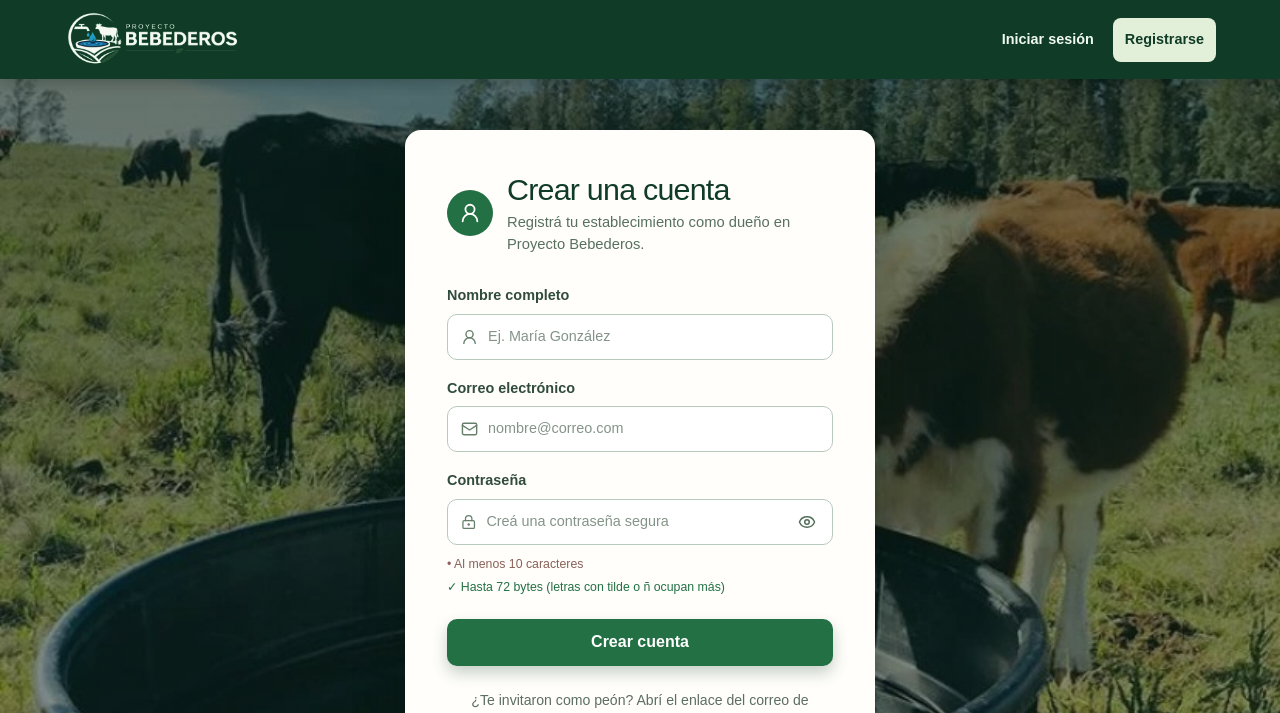
it: el registro público no ofrece elegir rol ni lo envía
This screenshot has width=1280, height=713.
Expected: the heading "Crear una cuenta" is shown, x1=507 y1=172 x2=730 y2=206
Type "Ana Dueña" into the field labelled "Nombre completo". click: [649, 337]
box: x1=478 y1=326 x2=819 y2=347
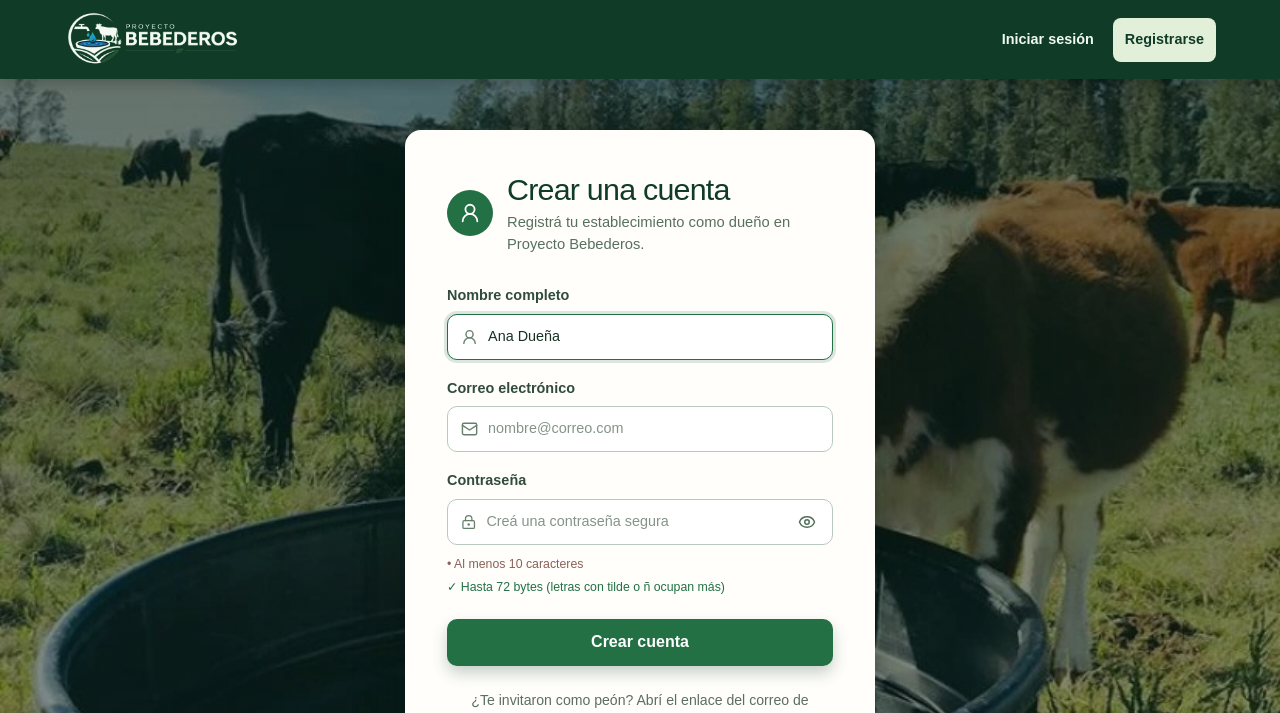
Type "ana@test.invalid" into the field labelled "Correo electrónico". click: [649, 429]
box: x1=478 y1=418 x2=819 y2=440
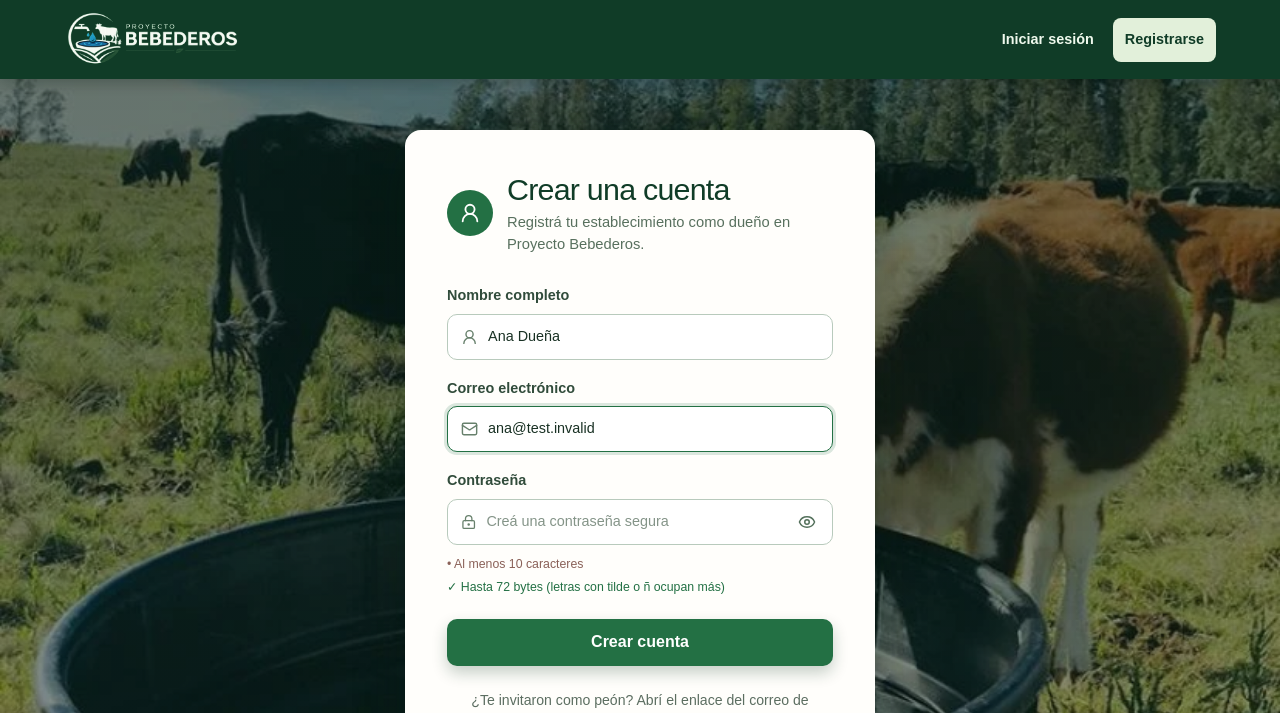
Type "corta" into the password field labelled "Contraseña". click: [631, 522]
box: x1=476 y1=511 x2=785 y2=533
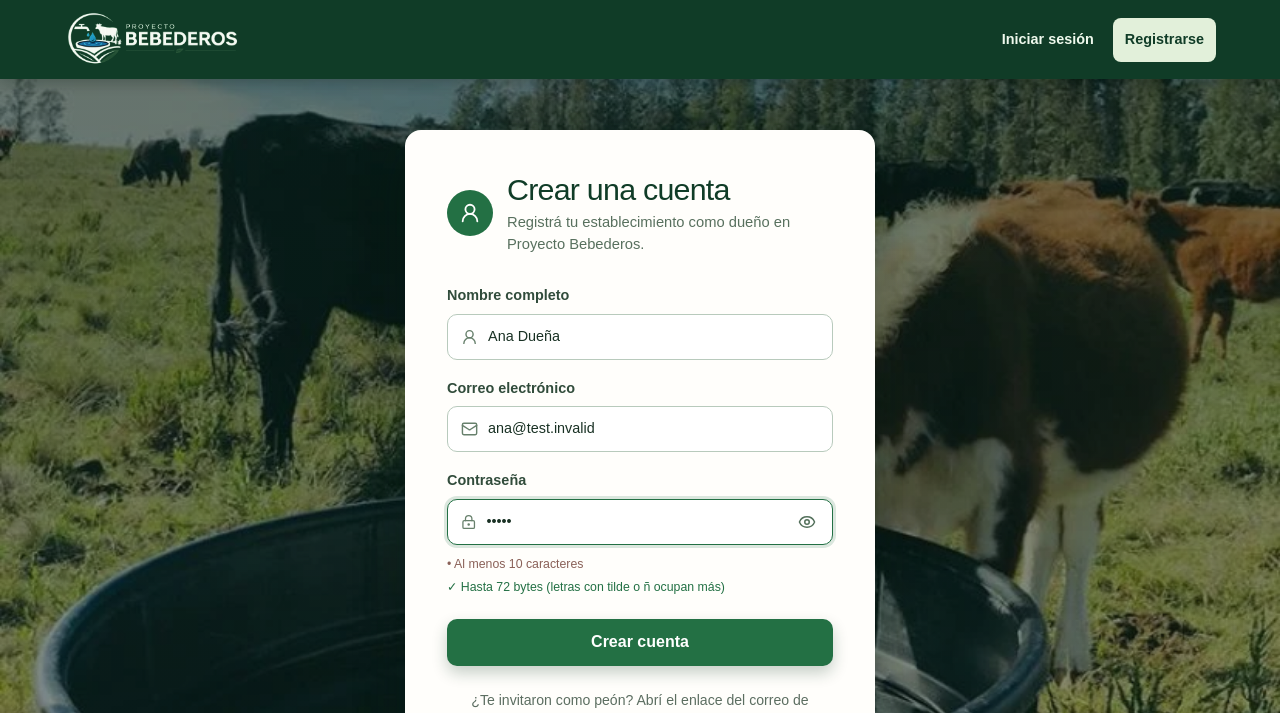
Click the button "Crear cuenta". click: [640, 642]
box: x1=447 y1=619 x2=833 y2=666
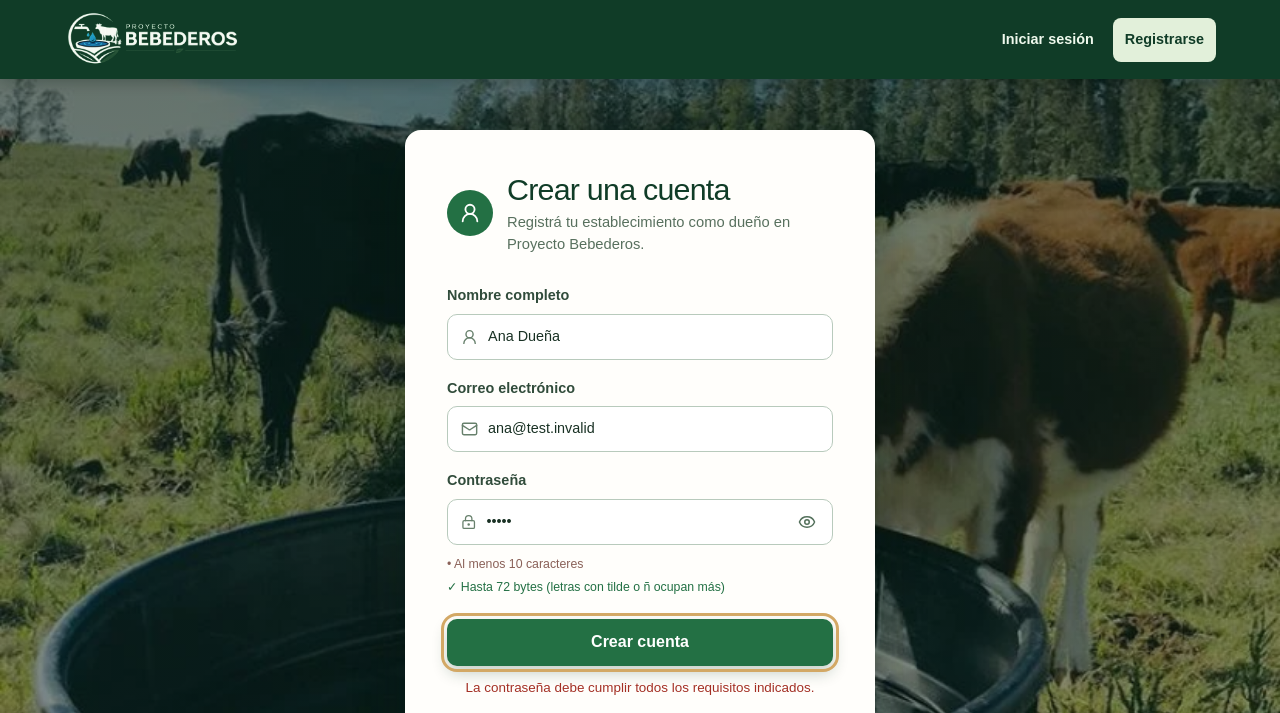
Now the message shows "requisitos", box x1=466 y1=680 x2=814 y2=695
Type "-y-segura" into the password field labelled "Contraseña". click: [631, 522]
box: x1=476 y1=511 x2=785 y2=533
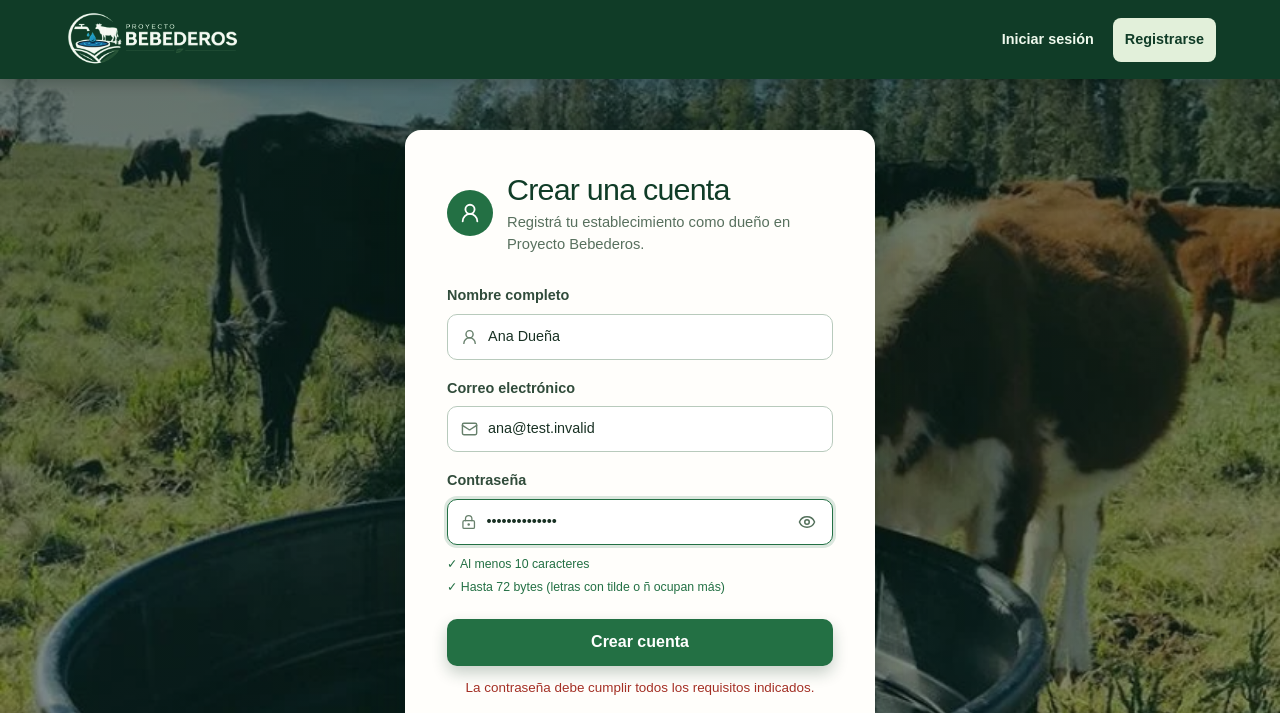
Click the button "Crear cuenta". click: [640, 642]
box: x1=447 y1=619 x2=833 y2=666
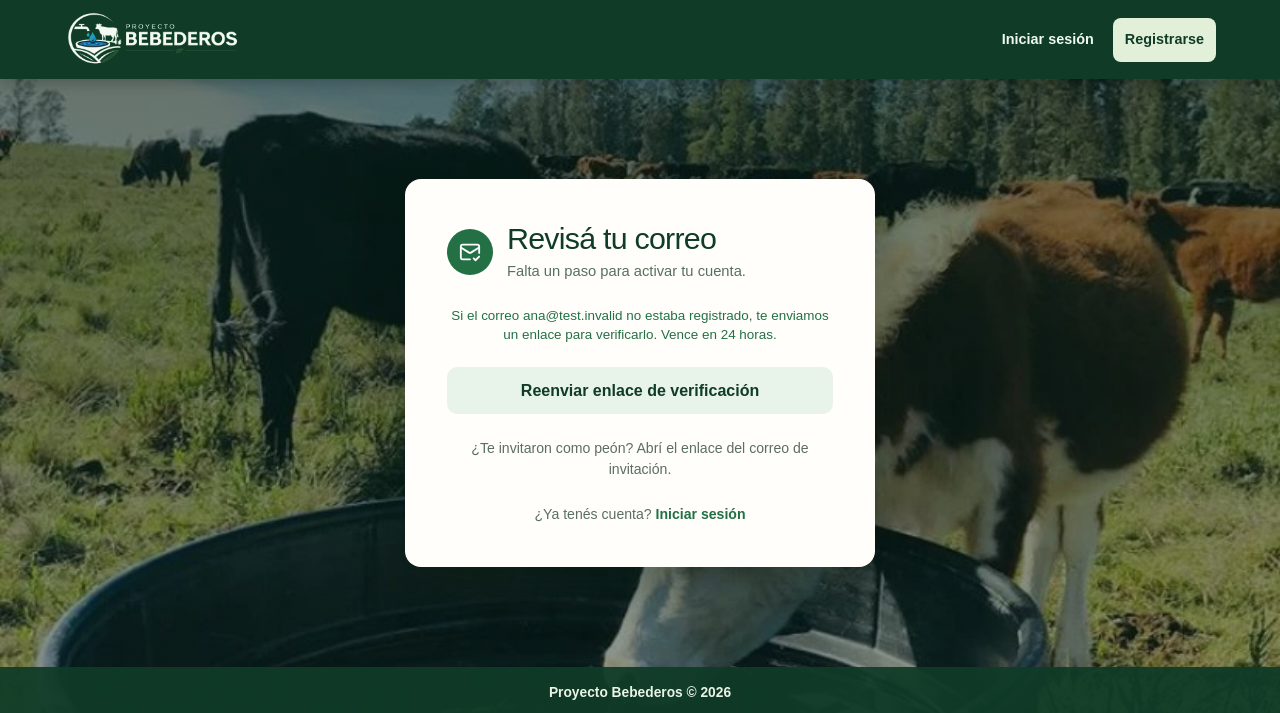
Now the heading "Revisá tu correo" is shown, box x1=507 y1=221 x2=746 y2=255
